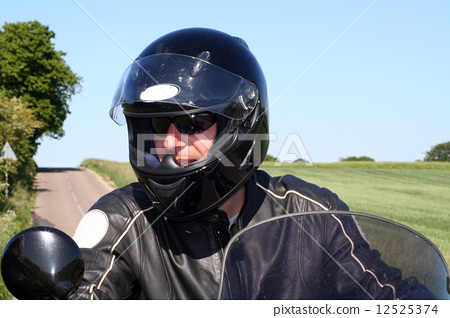helmet: (111, 18, 275, 218)
